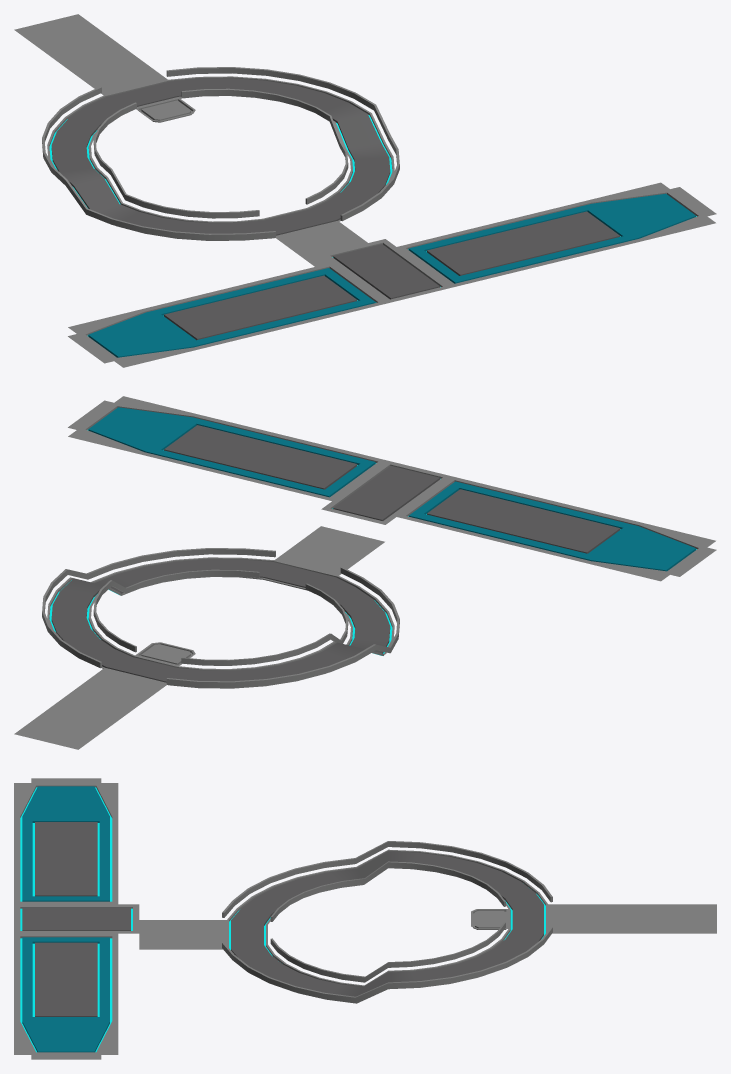
File: T-SplitCorePath.fbx
The picture shows the model from 3 angles, top to bottom: view 1: azimuth 30°, elevation 25°; view 2: azimuth 150°, elevation 25°; view 3: azimuth 270°, elevation 25°; orthographic projection. The views are drawn at different scales.
Visible parts, largest first — view 1: T-SplitCorePath; view 2: T-SplitCorePath; view 3: T-SplitCorePath, T-SplitCoreLightsPath.
Boxes of the visible parts, x1,y1,x2,y2 form: T-SplitCorePath: [14, 14, 716, 367]; T-SplitCorePath: [14, 396, 716, 749]; T-SplitCorePath: [14, 778, 716, 1059]; T-SplitCoreLightsPath: [20, 787, 545, 1052].
Bounding box in the file's own units: 3184 × 130 × 3365.
